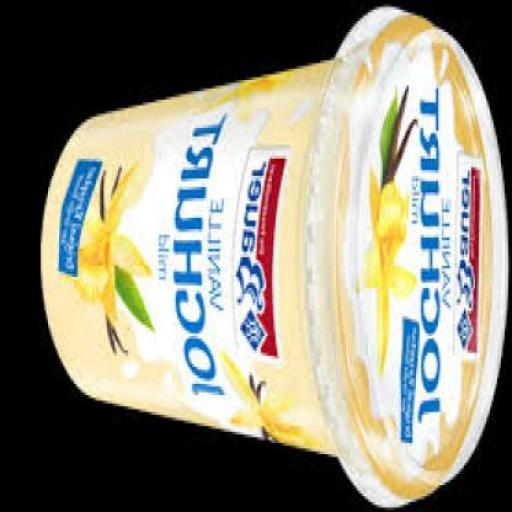plastic: (42, 6, 512, 511)
